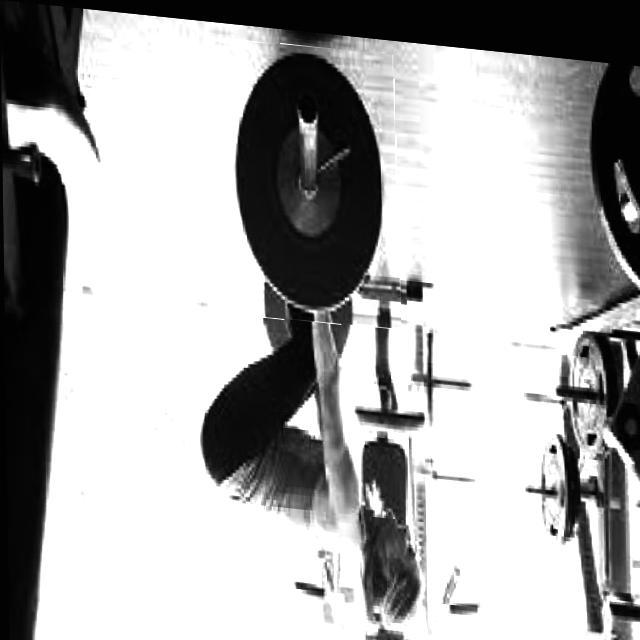barbell: (223, 33, 401, 324)
